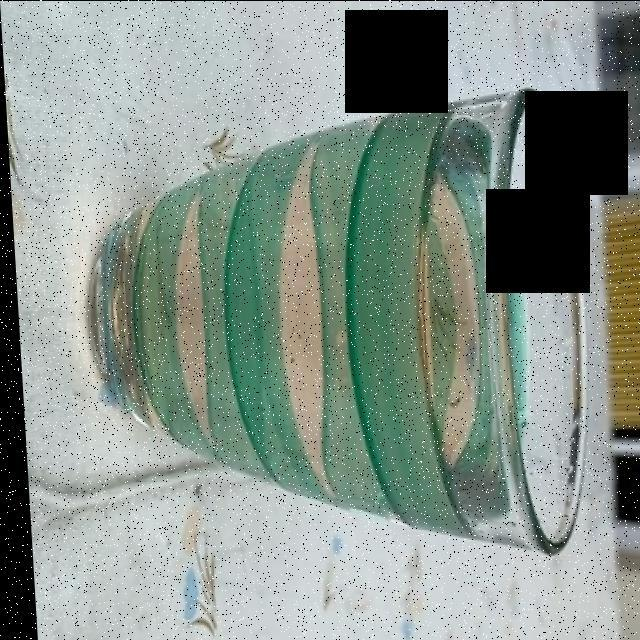drink: (118, 112, 524, 536)
